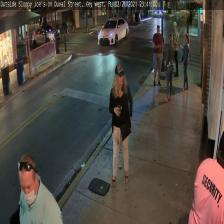person: (17, 153, 63, 223), (108, 63, 133, 186)
